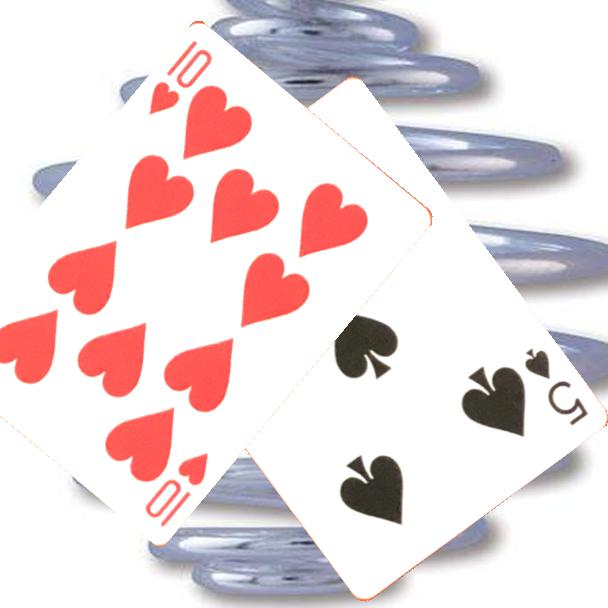h10: (145, 36, 216, 117), (141, 448, 212, 529)
s05: (520, 344, 591, 429)
